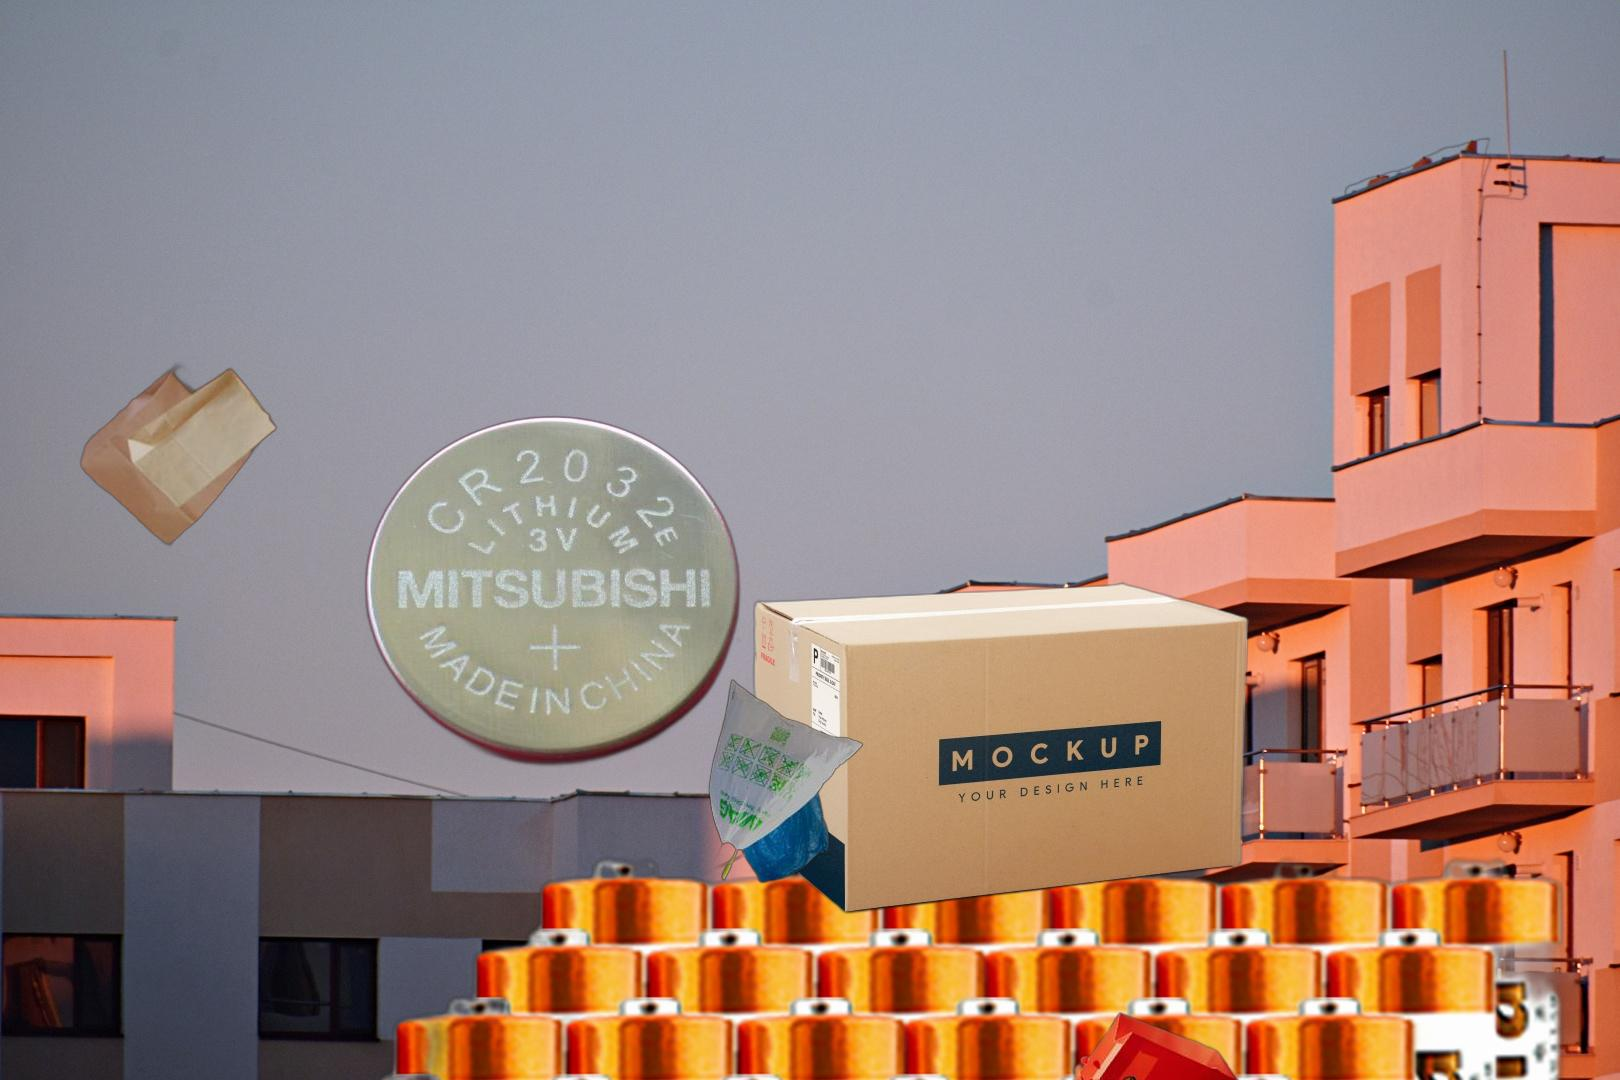battery: (312, 849, 1577, 1080), (360, 413, 745, 769)
paper-bag: (78, 360, 278, 548), (1025, 1010, 1242, 1080)
plastic-bag: (697, 677, 865, 885)
trashbox-cardboard: (749, 580, 1254, 916)
